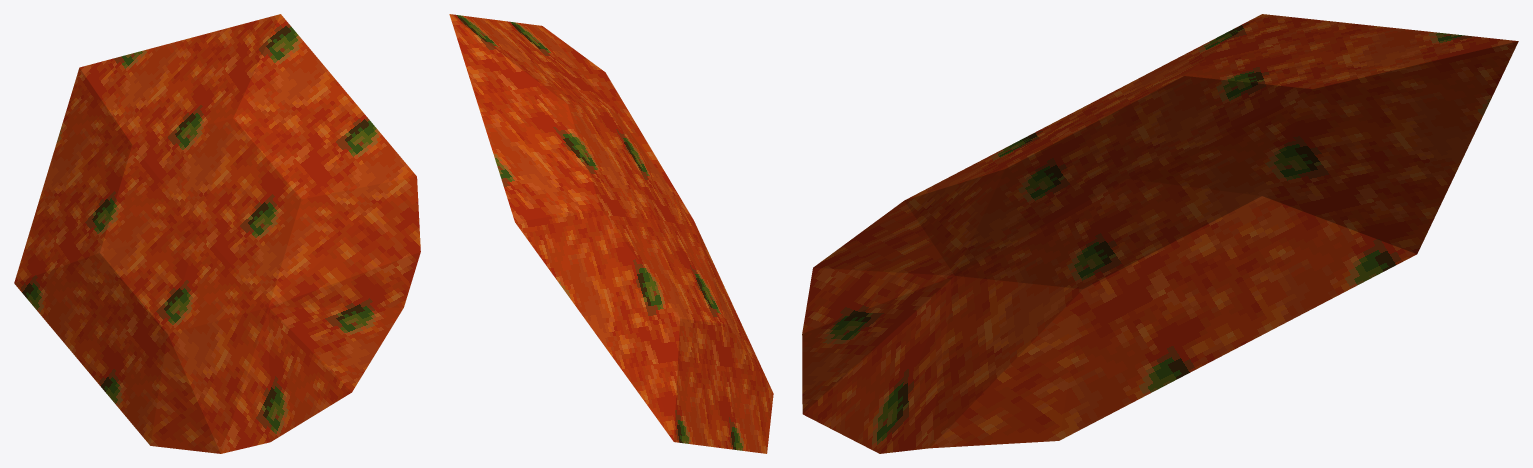
File: 1391item2781r.gltf
The picture shows the model from 3 angles, left to right: view 1: azimuth 30°, elevation 25°; view 2: azimuth 150°, elevation 25°; view 3: azimuth 270°, elevation 25°; orthographic projection. The views are drawn at different scales.
Parts seen in each view (by area): view 1: 1391item2781r; view 2: 1391item2781r; view 3: 1391item2781r.
Boxes of the visible parts, <box> form: 1391item2781r: <box>14,14,420,453</box>; 1391item2781r: <box>449,14,773,453</box>; 1391item2781r: <box>802,14,1518,453</box>.
Bounding box in the file's own units: 0.2357 × 0.3045 × 0.3379.
1 material, 1 textured.
